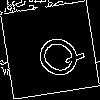Q: (25, 25, 87, 85)
